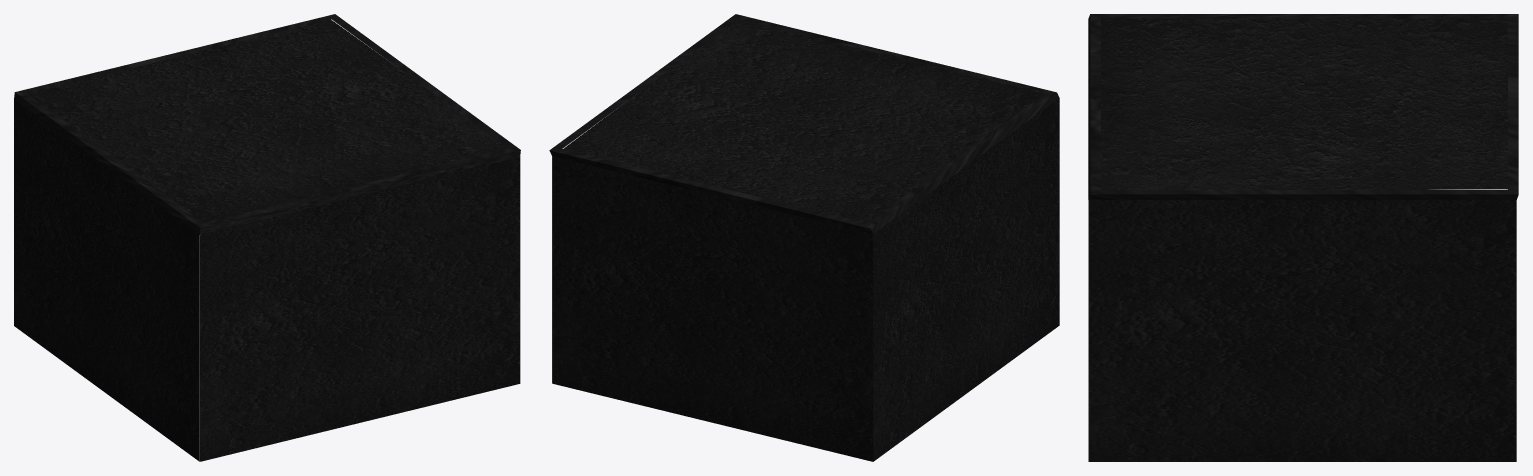
The model's file is Escena_1.fbx.
3 renders of one model, left to right at view 1: azimuth 30°, elevation 25°; view 2: azimuth 150°, elevation 25°; view 3: azimuth 270°, elevation 25°, orthographic. The views are drawn at different scales.
Visible parts, largest first — view 1: Cube; view 2: Cube; view 3: Cube.
Part boxes in pixels (bbox=[...]): Cube: bbox=[14, 14, 520, 461]; Cube: bbox=[549, 14, 1059, 461]; Cube: bbox=[1088, 14, 1518, 461].
Bounding box in the file's own units: 4.02 × 2.78 × 4.04.
5 materials, 2 textured.
